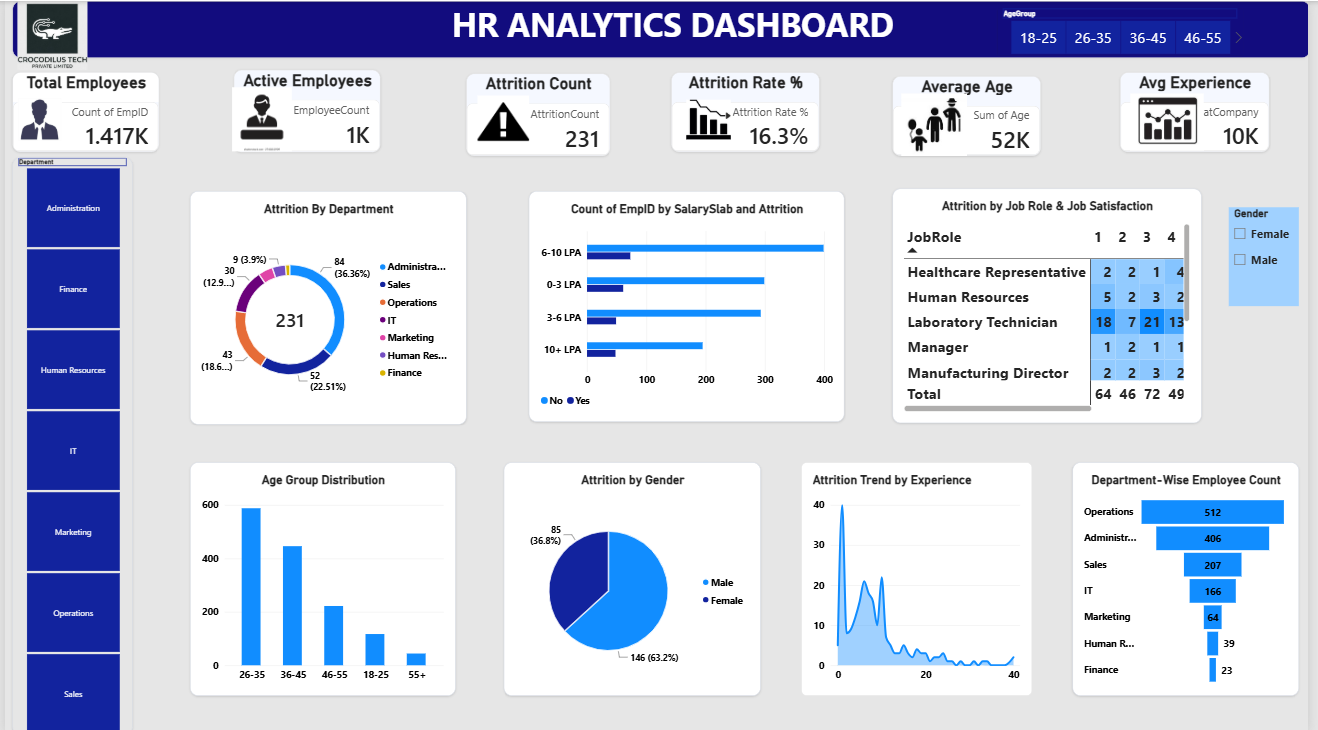

This screenshot's page, from the dashboard's own definition file:
{"tool":"powerbi","page":{"name":"Page 1","canvas":[1920,1080],"ordinal":0},"visuals":[{"type":"textbox","box":[10.3,0,1910.1,84.4],"z":0},{"type":"cardVisual","title":"Total Employees","fields":{"Data":["CountNonNull(HR_Analytics-4.EmpID)"]},"box":[10.3,105,216.1,117.3],"z":1000},{"type":"cardVisual","title":"Active Employees","fields":{"Data":["Sum(HR_Analytics-4.EmployeeCount)"]},"box":[337.6,100.9,216.1,121.4],"z":2000},{"type":"cardVisual","title":"Attrition Count","fields":{"Data":["Sum(HR_Analytics-4.AttritionCount)"]},"box":[679.2,107,212,121.4],"z":3000},{"type":"cardVisual","title":"Attrition Rate %","fields":{"Data":["HR_Analytics-4.Attrition Rate %"]},"box":[981.8,105,218.2,117.3],"z":4000},{"type":"cardVisual","title":"Average Age","fields":{"Data":["Sum(HR_Analytics-4.Age)"]},"box":[1307,111.1,218.2,117.3],"z":5000},{"type":"cardVisual","title":"Avg Experience","fields":{"Data":["Sum(HR_Analytics-4.YearsatCompany)"]},"box":[1642.5,105,220.2,117.3],"z":6000},{"type":"image","box":[10.3,142,80.3,65.9],"z":7000},{"type":"image","box":[1002.4,127.6,65.9,94.7],"z":8000},{"type":"image","box":[1319.4,135.8,96.7,92.6],"z":9000},{"type":"image","box":[1642.5,135.8,137.9,84.4],"z":10000},{"type":"image","box":[695.7,133.8,76.2,86.4],"z":11000},{"type":"image","box":[323.2,127.6,109.1,94.7],"z":12000},{"type":"donutChart","title":"Attrition By Department","fields":{"Category":["HR_Analytics-4.Department"],"Y":["Sum(HR_Analytics-4.AttritionCount)"]},"box":[272.4,279.8,407.5,343.7],"z":13000},{"type":"clusteredBarChart","fields":{"Category":["HR_Analytics-4.SalarySlab"],"Series":["HR_Analytics-4.Attrition"],"Y":["CountNonNull(HR_Analytics-4.EmpID)"]},"box":[771.2,279.8,465.2,339.6],"z":14000},{"type":"pivotTable","title":"Attrition by Job Role & Job Satisfaction","fields":{"Columns":["HR_Analytics-4.JobSatisfaction"],"Rows":["HR_Analytics-4.JobRole"],"Values":["Sum(HR_Analytics-4.AttritionCount)"]},"box":[1306.8,276.1,454.9,345.8],"z":15000},{"type":"columnChart","title":"Age Group Distribution","fields":{"Category":["HR_Analytics-4.AgeGroup"],"Y":["Sum(HR_Analytics-4.EmployeeCount)"]},"box":[271.7,679.2,391.1,343.7],"z":16000},{"type":"pieChart","title":"Attrition by Gender","fields":{"Category":["HR_Analytics-4.Gender"],"Y":["Sum(HR_Analytics-4.AttritionCount)"]},"box":[734.4,679.1,378.7,343.7],"z":17000},{"type":"areaChart","title":"Attrition Trend by Experience","fields":{"Category":["HR_Analytics-4.TotalExperience(Years)"],"Y":["Sum(HR_Analytics-4.AttritionCount)"]},"box":[1172.4,679.1,339.6,343.7],"z":18000},{"type":"funnel","title":"Department-Wise Employee Count","fields":{"Category":["HR_Analytics-4.Department"],"Y":["CountNonNull(HR_Analytics-4.EmpID)"]},"box":[1572.6,679.2,333.4,343.7],"z":19000},{"type":"slicer","fields":{"Values":["HR_Analytics-4.Department"]},"box":[10.3,230.5,177,850.1],"z":20000},{"type":"slicer","fields":{"Values":["HR_Analytics-4.AgeGroup"]},"box":[1461.4,10.3,361,68],"z":21000},{"type":"image","box":[11,0,117.8,101.2],"z":22000},{"type":"slicer","fields":{"Values":["HR_Analytics-4.Gender"]},"box":[1801.9,303.7,103.1,145.4],"z":22001}]}

Visuals, with their boxes in screenshot pixels (x1, y1, x2, y2), scaled from the page's 1920x1080 canvas onto the 1318x730 screenshot:
textbox: (7, 0, 1317, 57)
"Total Employees" cardVisual: (7, 71, 155, 150)
"Active Employees" cardVisual: (232, 68, 380, 150)
"Attrition Count" cardVisual: (466, 72, 612, 154)
"Attrition Rate %" cardVisual: (674, 71, 824, 150)
"Average Age" cardVisual: (897, 75, 1047, 154)
"Avg Experience" cardVisual: (1128, 71, 1279, 150)
image: (7, 96, 62, 141)
image: (688, 86, 733, 150)
image: (906, 92, 972, 154)
image: (1128, 92, 1222, 149)
image: (478, 90, 530, 149)
image: (222, 86, 297, 150)
"Attrition By Department" donutChart: (187, 189, 467, 421)
clusteredBarChart - HR_Analytics-4.SalarySlab x HR_Analytics-4.Attrition: (529, 189, 849, 419)
"Attrition by Job Role & Job Satisfaction" pivotTable: (897, 187, 1209, 420)
"Age Group Distribution" columnChart: (187, 459, 455, 691)
"Attrition by Gender" pieChart: (504, 459, 764, 691)
"Attrition Trend by Experience" areaChart: (805, 459, 1038, 691)
"Department-Wise Employee Count" funnel: (1080, 459, 1308, 691)
slicer - HR_Analytics-4.Department: (7, 156, 129, 729)
slicer - HR_Analytics-4.AgeGroup: (1003, 7, 1251, 53)
image: (8, 0, 88, 68)
slicer - HR_Analytics-4.Gender: (1237, 205, 1308, 304)
